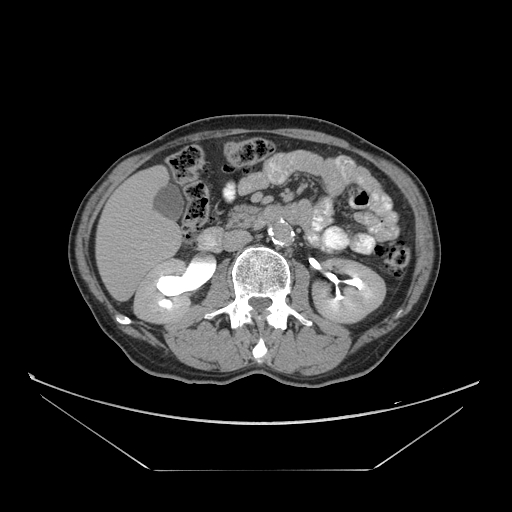left_kidney: (131, 254, 197, 323)
right_kidney: (305, 255, 383, 320)
